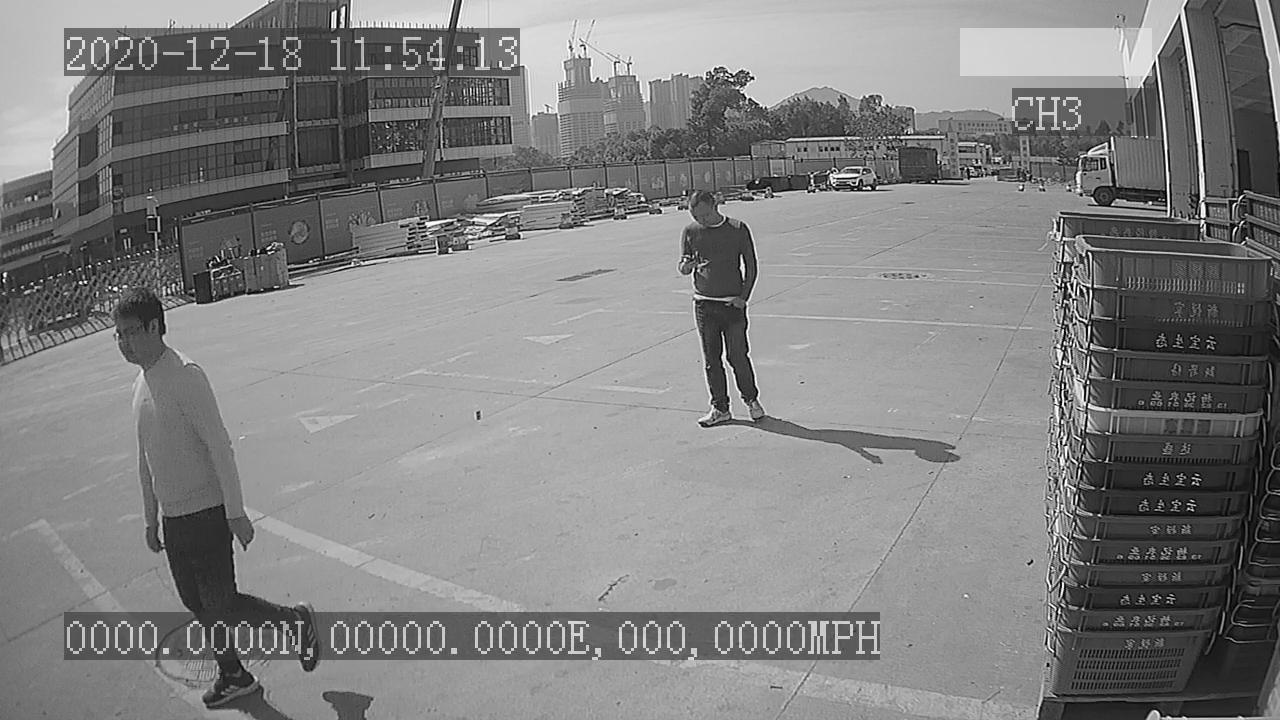person: (670, 183, 777, 433)
